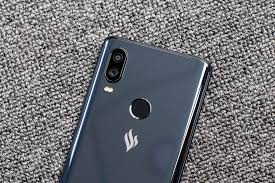vsmart: (60, 34, 212, 183)
